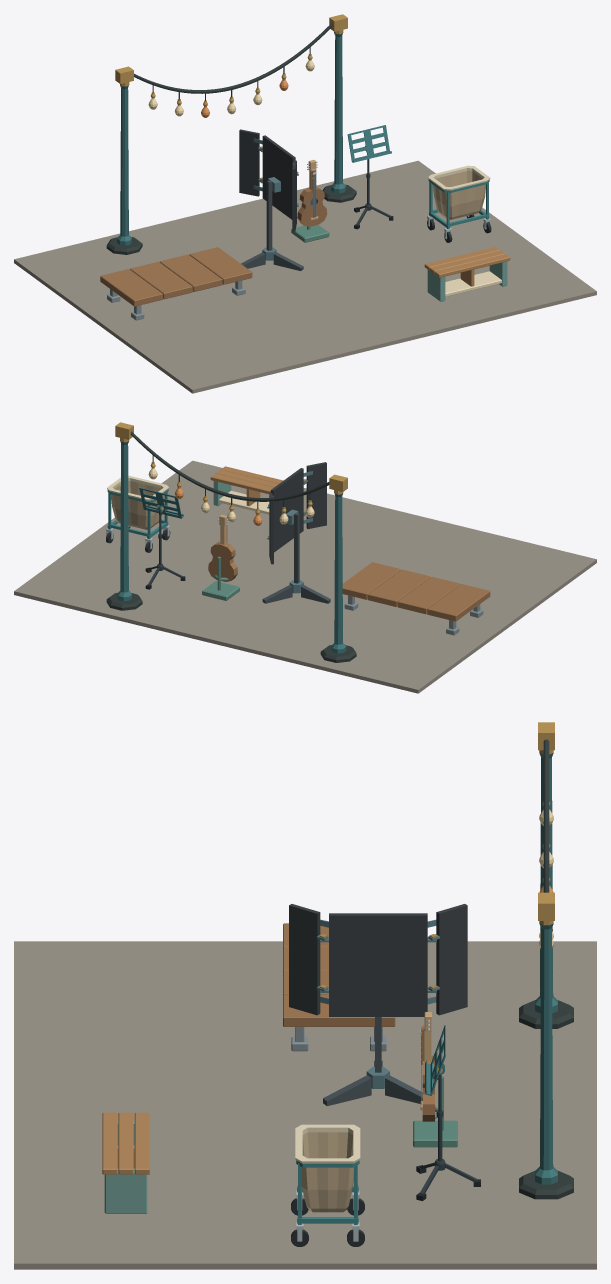
The picture shows the model from 3 angles, top to bottom: view 1: azimuth 30°, elevation 25°; view 2: azimuth 150°, elevation 25°; view 3: azimuth 270°, elevation 25°; orthographic projection. The views are drawn at different scales.
Visible parts, largest first — view 1: SCENE_ONLY__SupportFloor, side_stage_platform__music-stage-platform-01, performer_bench__entryway-storage-bench-01, fabric_cart__Hamper_ContinuousThickFabric, rear_festoon__OctagonalPost_Left, rear_festoon__OctagonalPost_Right, wing_screen__WholeCentralThickFlag, ready_guitar__music-acoustic-guitar-01, wing_screen__RightWholeFixedThickWing, rear_festoon__ContinuousSaggingMainLine, score_stand__Perforated_Board_IntegralShelfLip; view 2: SCENE_ONLY__SupportFloor, side_stage_platform__music-stage-platform-01, performer_bench__entryway-storage-bench-01, rear_festoon__OctagonalPost_Right, rear_festoon__OctagonalPost_Left, ready_guitar__music-acoustic-guitar-01, fabric_cart__Hamper_ContinuousThickFabric, wing_screen__WholeCentralThickFlag, wing_screen__LeftWholeFixedThickWing, rear_festoon__ContinuousSaggingMainLine, score_stand__Perforated_Board_IntegralShelfLip, wing_screen__OffsetRearStraightMast; view 3: SCENE_ONLY__SupportFloor, wing_screen__WholeCentralThickFlag, fabric_cart__Hamper_ContinuousThickFabric, performer_bench__entryway-storage-bench-01, rear_festoon__OctagonalPost_Right, wing_screen__RightWholeFixedThickWing, wing_screen__LeftWholeFixedThickWing, side_stage_platform__music-stage-platform-01, ready_guitar__music-acoustic-guitar-01, rear_festoon__OctagonalPost_Left, rear_festoon__ContinuousSaggingMainLine, wing_screen__WholeFlatSoleRadialLeg_2 (+1 smaller).
Boxes of the visible parts, box(x1,y1,x2,y2) form: SCENE_ONLY__SupportFloor: box(14, 160, 596, 393); side_stage_platform__music-stage-platform-01: box(100, 247, 252, 320); performer_bench__entryway-storage-bench-01: box(424, 247, 510, 301); fabric_cart__Hamper_ContinuousThickFabric: box(428, 165, 490, 219); rear_festoon__OctagonalPost_Left: box(106, 82, 142, 254); rear_festoon__OctagonalPost_Right: box(322, 30, 356, 202); wing_screen__WholeCentralThickFlag: box(262, 135, 295, 219); ready_guitar__music-acoustic-guitar-01: box(291, 160, 329, 242); wing_screen__RightWholeFixedThickWing: box(239, 129, 259, 196); rear_festoon__ContinuousSaggingMainLine: box(134, 23, 332, 93); score_stand__Perforated_Board_IntegralShelfLip: box(347, 125, 391, 162); SCENE_ONLY__SupportFloor: box(14, 460, 596, 693); side_stage_platform__music-stage-platform-01: box(342, 562, 490, 635); performer_bench__entryway-storage-bench-01: box(210, 466, 283, 514); rear_festoon__OctagonalPost_Right: box(106, 438, 142, 610); rear_festoon__OctagonalPost_Left: box(320, 490, 356, 662); ready_guitar__music-acoustic-guitar-01: box(202, 514, 239, 600); fabric_cart__Hamper_ContinuousThickFabric: box(107, 475, 168, 529); wing_screen__WholeCentralThickFlag: box(270, 468, 303, 552); wing_screen__LeftWholeFixedThickWing: box(306, 462, 326, 528); rear_festoon__ContinuousSaggingMainLine: box(130, 431, 329, 501); score_stand__Perforated_Board_IntegralShelfLip: box(139, 487, 183, 518); wing_screen__OffsetRearStraightMast: box(294, 513, 299, 583); SCENE_ONLY__SupportFloor: box(14, 941, 596, 1269); wing_screen__WholeCentralThickFlag: box(329, 913, 427, 1016); fabric_cart__Hamper_ContinuousThickFabric: box(295, 1124, 360, 1212); performer_bench__entryway-storage-bench-01: box(102, 1112, 149, 1213); rear_festoon__OctagonalPost_Right: box(519, 921, 573, 1199); wing_screen__RightWholeFixedThickWing: box(436, 904, 467, 1015); wing_screen__LeftWholeFixedThickWing: box(289, 904, 320, 1015); side_stage_platform__music-stage-platform-01: box(283, 923, 395, 1051); ready_guitar__music-acoustic-guitar-01: box(413, 1012, 457, 1147); rear_festoon__OctagonalPost_Left: box(519, 750, 573, 1028); rear_festoon__ContinuousSaggingMainLine: box(543, 739, 549, 892); wing_screen__WholeFlatSoleRadialLeg_2: box(323, 1075, 371, 1106).
Size of the model in its own units: 6.8 by 2.91 by 5.2.
